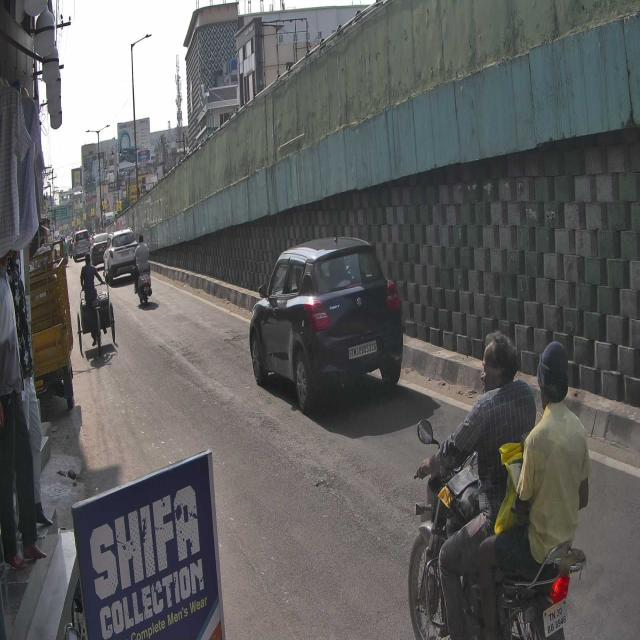double_rider: (408, 326, 590, 640)
